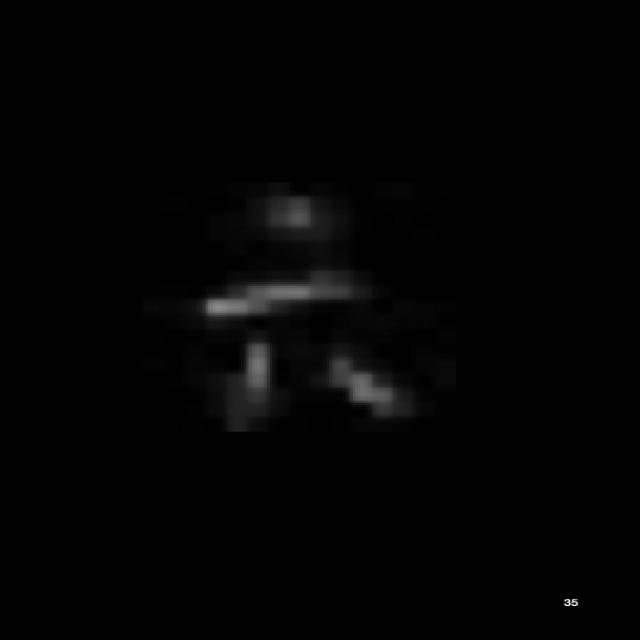6 -six-: (186, 188, 420, 438)
